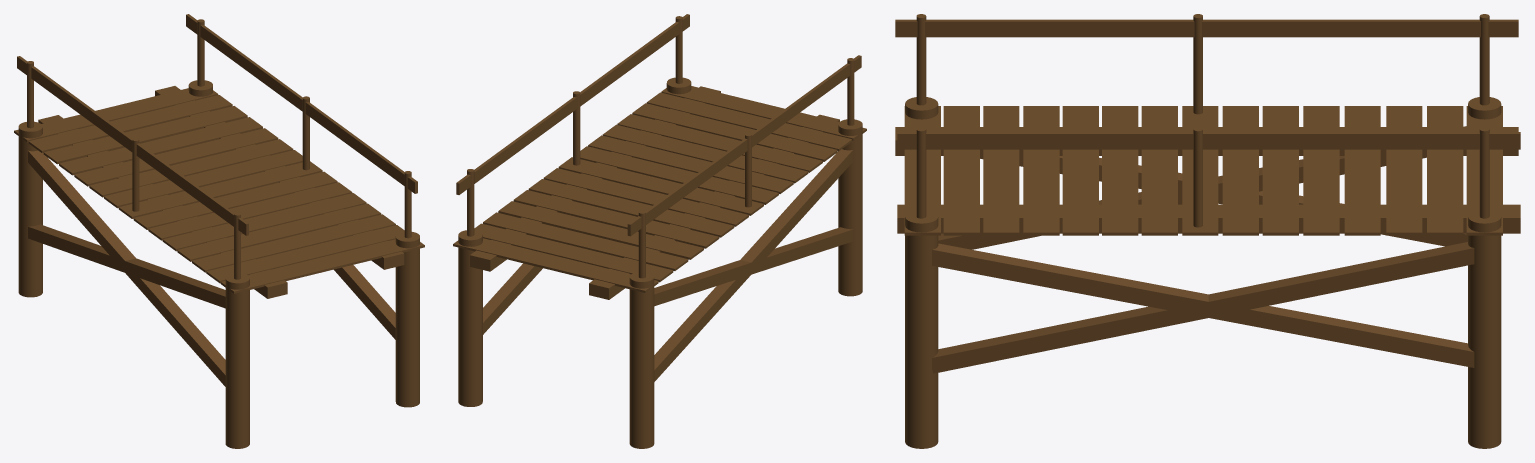
Rendered from bridge.fbx.
3 views of the same model, side by side, from view 1: azimuth 30°, elevation 25°; view 2: azimuth 150°, elevation 25°; view 3: azimuth 270°, elevation 25° (orthographic). The views are drawn at different scales.
Visible parts, largest first — view 1: group23_pasted__pCube1; view 2: group23_pasted__pCube1; view 3: group23_pasted__pCube1.
Part boxes in pixels (x1,y1,x2,y2): group23_pasted__pCube1: (14, 14, 424, 448); group23_pasted__pCube1: (453, 14, 866, 448); group23_pasted__pCube1: (895, 14, 1520, 448).
Size of the model in its own units: 7.4 by 8.49 by 15.39.
